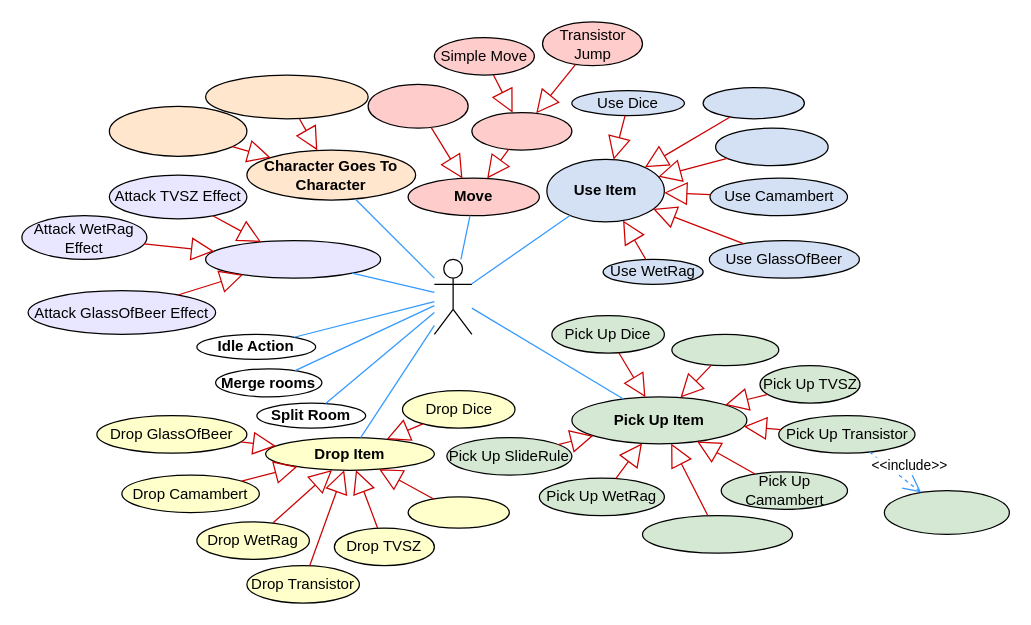
Some shapes in this 1031 by 625 pixel diagram are drawn without their labels. The shapes that lost their labels are listed below. From the top down, each one's box as (x1, y1, x2, y2) in pixels, then its label:
(204, 74, 368, 119): Instructor goes to Student
(367, 83, 468, 128): Instructor Move
(702, 86, 804, 119): Use FFP2
(108, 105, 247, 156): Student Goes To Instructor
(471, 111, 572, 150): Student Move
(714, 127, 828, 166): Use Transistor
(204, 239, 381, 278): Attack Item Effect
(433, 258, 472, 334): Tester
(671, 333, 779, 366): Pick Up FFP2
(407, 496, 509, 528): Drop FFP2
(883, 489, 1009, 534): Pair Last Two Transistor
(641, 514, 792, 553): Pick Up GlassOfBeer
